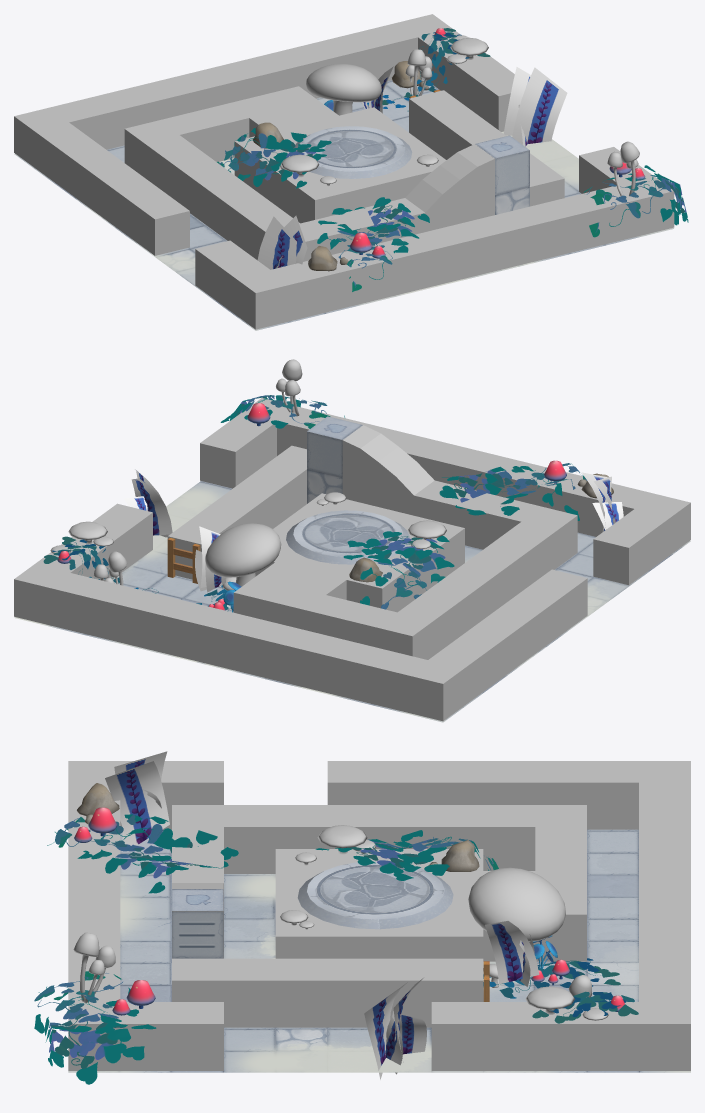
File: Map_01.FBX
The picture shows the model from 3 angles, top to bottom: view 1: azimuth 30°, elevation 25°; view 2: azimuth 150°, elevation 25°; view 3: azimuth 270°, elevation 25°; orthographic projection. The views are drawn at different scales.
Visible parts, largest first — view 1: Plane_02, Plane_03, Cli_leaf, Plane_00, Plane_04, Interactive_01, Plant_006, Shiitake_004, Plant_008, Plant_013, Stone, Shiitake_009 (+3 smaller); view 2: Plane_02, Plane_03, Cli_leaf, Plane_00, Plane_04, Shiitake_004, Interactive_01, Plant_013, Shiitake_009, Shiitake_008; view 3: Plane_02, Plane_03, Plane_00, Cli_leaf, Plane_04, Shiitake_004, Interactive_01, Plant_010, Plant_002, Plant_006, Plant_012, Shiitake_009 (+8 smaller).
Part boxes in pixels (x1,y1,x2,y2): Plane_02: (14,14,674,329); Plane_03: (124,86,564,261); Cli_leaf: (217,28,688,291); Plane_00: (14,78,673,330); Plane_04: (293,126,412,178); Interactive_01: (475,135,529,214); Plant_006: (512,67,567,144); Shiitake_004: (306,64,381,115); Plant_008: (257,216,296,269); Plant_013: (503,67,530,135); Stone: (308,246,348,271); Shiitake_009: (450,37,488,59); Plane_02: (14,398,690,721); Plane_03: (167,425,577,659); Cli_leaf: (43,395,587,611); Plane_00: (14,481,690,722); Plane_04: (286,510,409,564); Shiitake_004: (205,523,281,589); Interactive_01: (307,416,362,503); Plant_013: (131,478,172,535); Shiitake_009: (68,521,107,544); Shiitake_008: (407,520,446,540); Plane_02: (68,761,690,1070); Plane_03: (172,805,586,1027); Plane_00: (68,829,690,1072); Cli_leaf: (34,814,638,1084); Plane_04: (297,861,453,929); Shiitake_004: (468,867,565,941); Interactive_01: (172,889,223,958); Plant_010: (105,761,169,845); Plant_002: (485,921,539,984); Plant_006: (364,982,407,1079); Plant_012: (394,1014,426,1054); Shiitake_009: (525,986,574,1014).
Size of the model in its own units: 4076 by 4306 by 990.
